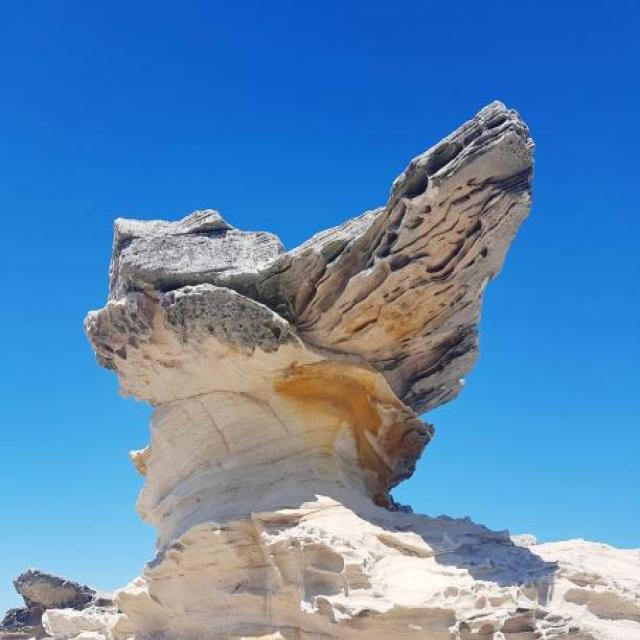Sedimentary: (90, 95, 542, 640)
